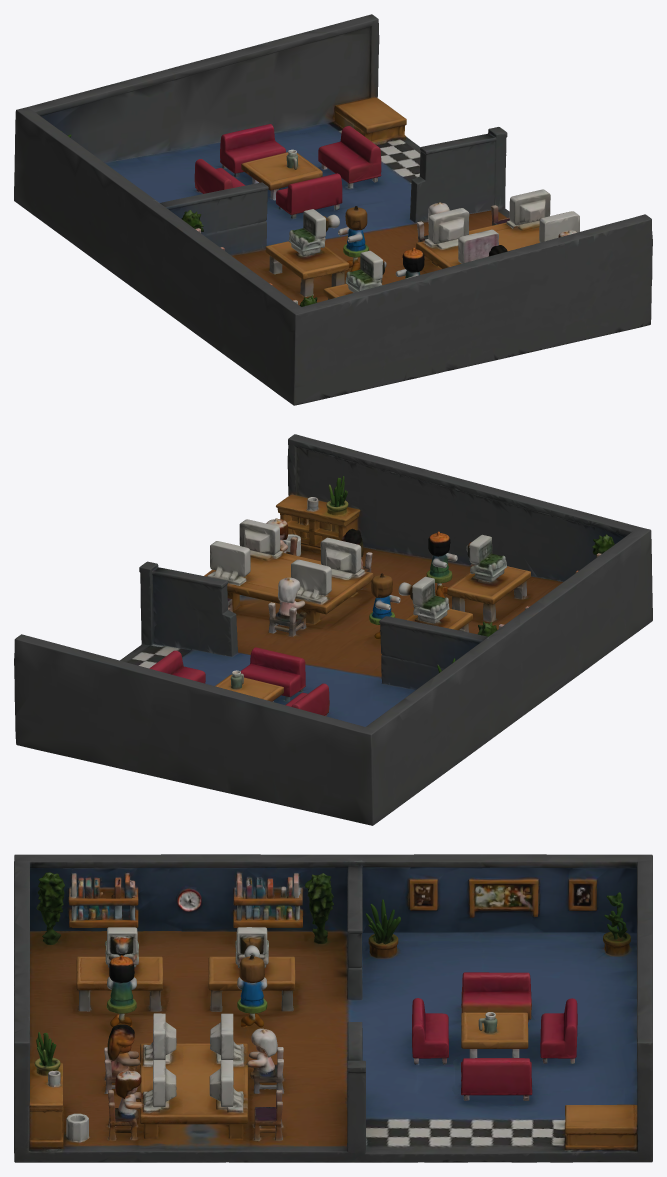
The model's file is office.glb.
3 renders of one model, top to bottom at view 1: azimuth 30°, elevation 25°; view 2: azimuth 150°, elevation 25°; view 3: azimuth 270°, elevation 25°, orthographic. The views are drawn at different scales.
Parts seen in each view (by area): view 1: tripo_node_d2c489ae-343a-4e8a-bd9a-ef963a2afe52; view 2: tripo_node_d2c489ae-343a-4e8a-bd9a-ef963a2afe52; view 3: tripo_node_d2c489ae-343a-4e8a-bd9a-ef963a2afe52.
Boxes of the visible parts, left/top/right/bottom form: tripo_node_d2c489ae-343a-4e8a-bd9a-ef963a2afe52: left=14, top=14, right=652, bottom=405; tripo_node_d2c489ae-343a-4e8a-bd9a-ef963a2afe52: left=14, top=434, right=652, bottom=825; tripo_node_d2c489ae-343a-4e8a-bd9a-ef963a2afe52: left=14, top=854, right=652, bottom=1162.
Size of the model in its own units: 0.7416 by 0.2089 by 1.
Materials: 1 (1 with a texture image).
